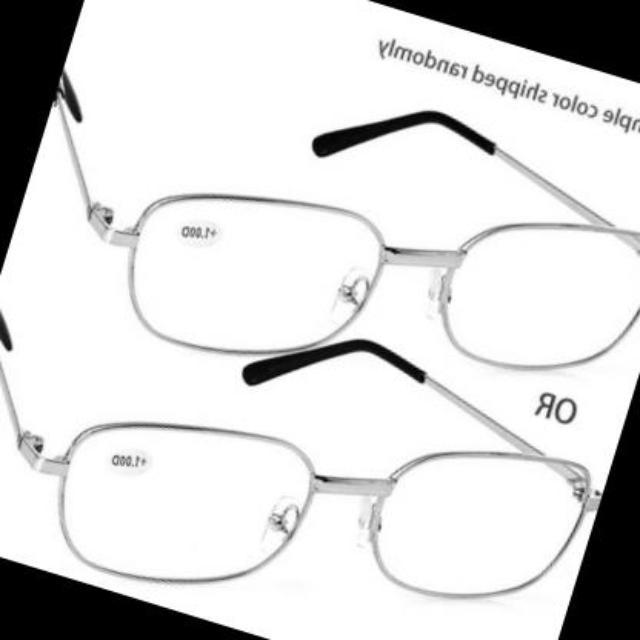glasses: (50, 63, 640, 370), (0, 346, 593, 606)
